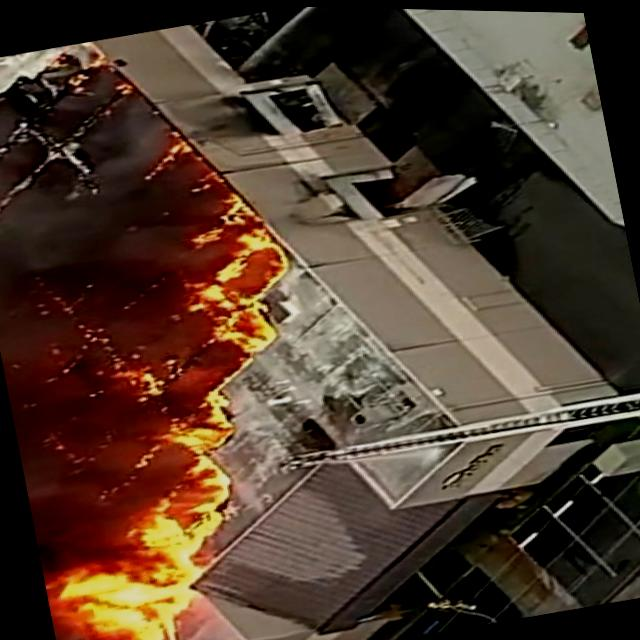fire: (42, 501, 219, 640)
